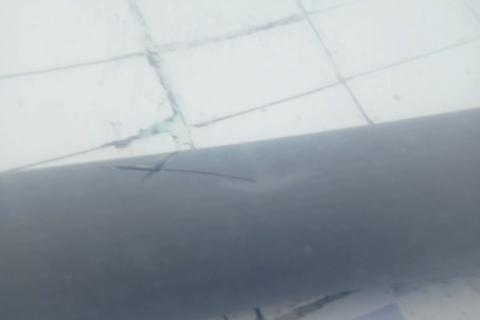keretakan: (110, 152, 259, 184)
